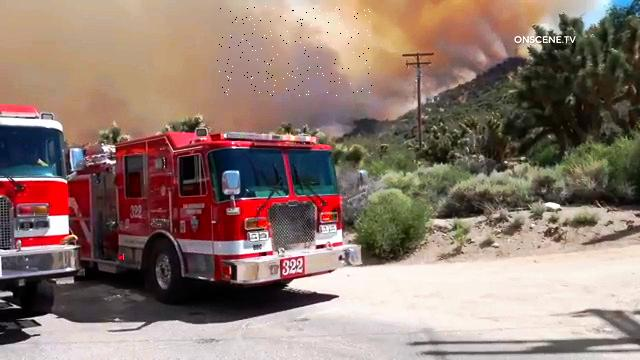smoke: (217, 7, 372, 97)
